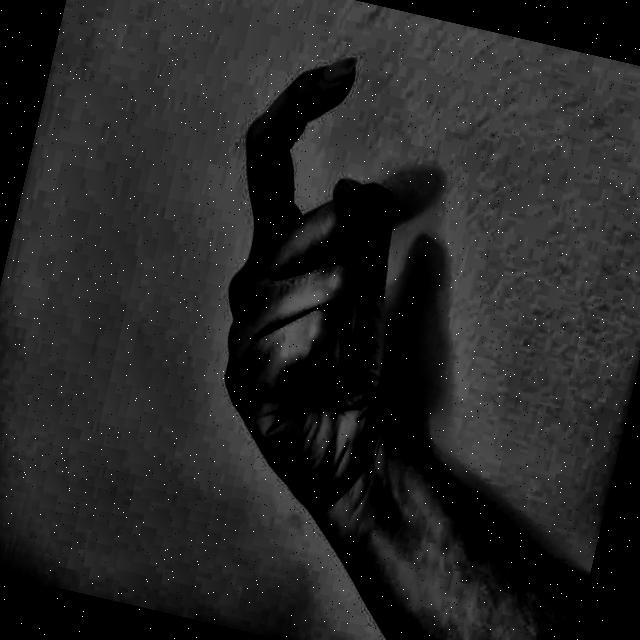E: (140, 11, 514, 551)
